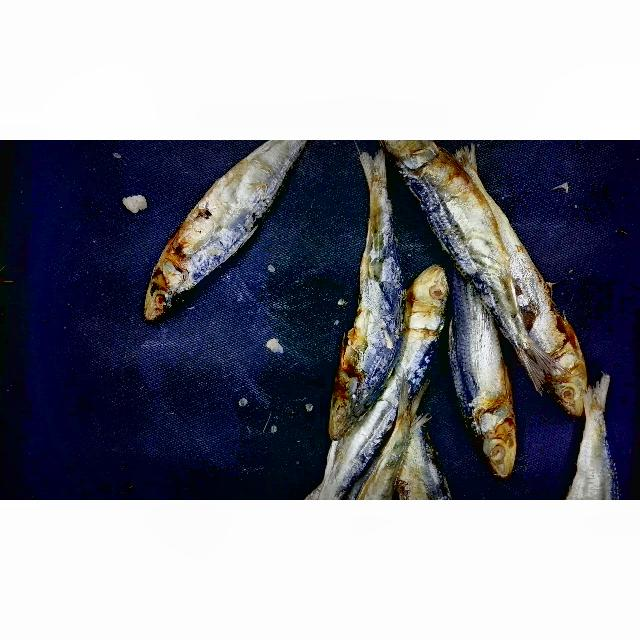Grade_B_Body: (162, 141, 313, 277), (402, 184, 542, 321), (479, 197, 578, 333), (337, 231, 412, 371), (439, 290, 523, 407)
Grade_B_Head: (119, 249, 203, 338), (528, 345, 592, 430), (319, 358, 374, 447), (463, 410, 527, 484), (394, 261, 460, 330)
Grade_B_Tail: (557, 368, 629, 500)
